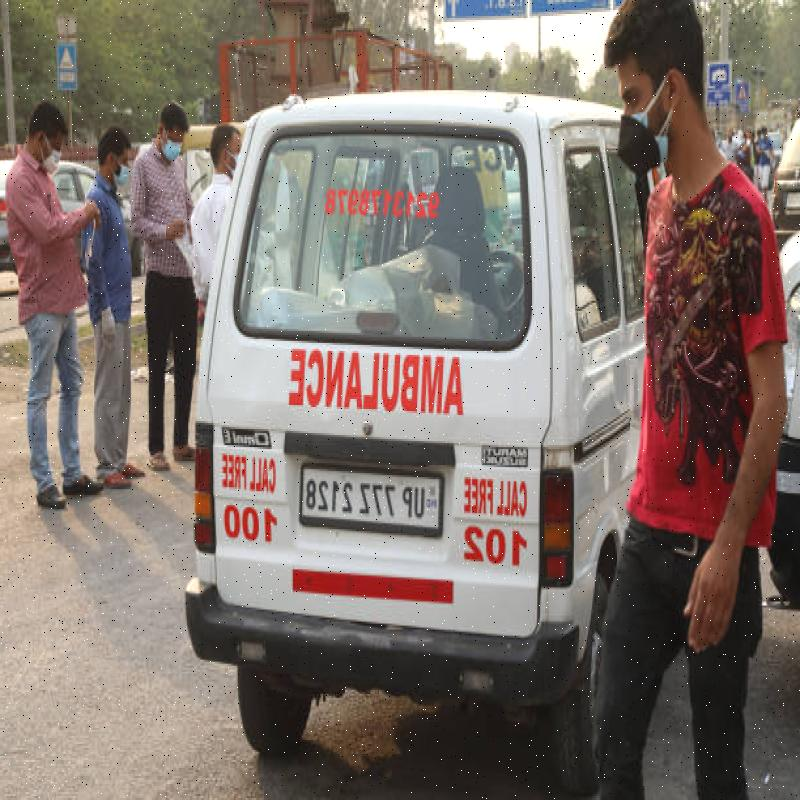ambulance: (174, 81, 606, 732)
